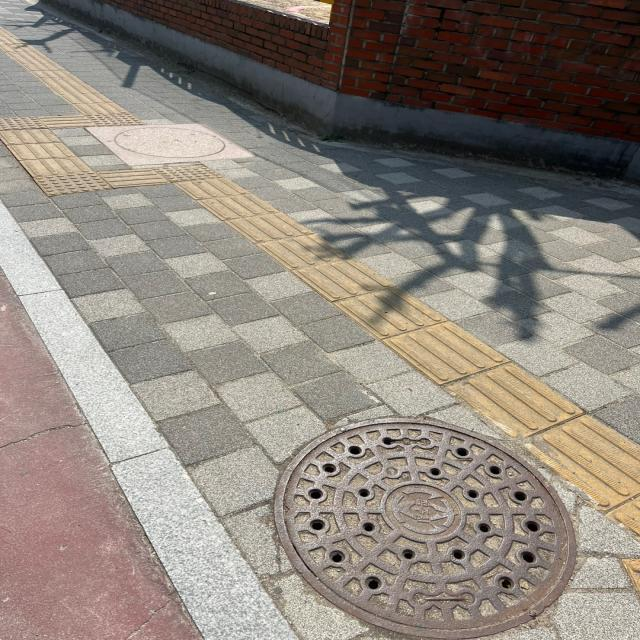manhole: (275, 418, 576, 639), (88, 124, 252, 166)
